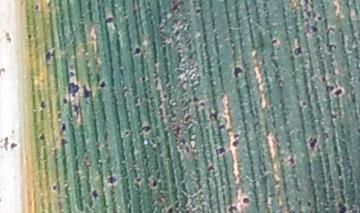tarspot: (67, 82, 80, 98), (80, 83, 92, 99), (307, 136, 320, 150), (336, 201, 347, 213), (1, 136, 9, 152), (71, 103, 80, 117), (106, 175, 118, 185), (233, 66, 243, 77), (292, 46, 303, 56), (349, 92, 357, 105), (97, 79, 107, 89), (59, 123, 68, 134), (59, 137, 70, 146), (227, 204, 238, 213), (209, 110, 218, 121), (104, 15, 114, 24), (141, 125, 151, 134), (333, 87, 343, 96), (171, 3, 181, 12), (183, 113, 191, 124), (90, 189, 99, 198), (39, 100, 47, 110), (174, 125, 181, 136), (9, 142, 18, 150), (309, 25, 318, 33), (328, 43, 336, 52), (217, 147, 227, 154), (325, 85, 335, 92), (327, 26, 335, 34), (38, 132, 45, 141), (134, 47, 141, 56), (231, 140, 240, 147), (305, 10, 312, 19), (49, 50, 56, 58), (151, 179, 158, 187), (242, 197, 250, 204), (287, 157, 295, 164), (207, 164, 214, 172), (300, 100, 308, 107), (1, 66, 6, 77), (45, 51, 50, 62), (233, 133, 240, 140), (199, 101, 206, 108), (271, 38, 278, 45), (330, 112, 337, 119), (51, 184, 57, 192), (135, 177, 143, 183), (171, 112, 177, 120), (356, 126, 360, 137), (6, 36, 12, 43), (61, 97, 67, 104), (123, 129, 129, 136), (166, 207, 173, 213), (192, 96, 199, 102), (180, 138, 186, 145), (184, 146, 190, 153), (306, 200, 312, 207), (33, 4, 39, 10), (26, 33, 32, 39), (195, 8, 201, 14), (162, 93, 168, 99), (316, 15, 322, 21), (4, 32, 10, 37), (10, 129, 15, 134), (141, 76, 146, 81)
